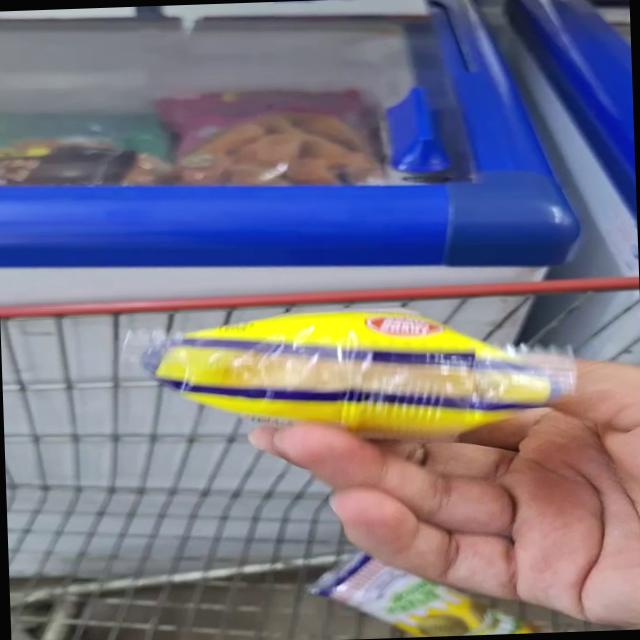Roti: (141, 288, 538, 434), (303, 550, 497, 640)
